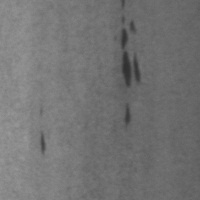inclusion: (118, 1, 142, 89), (36, 129, 51, 159), (121, 100, 135, 132)
